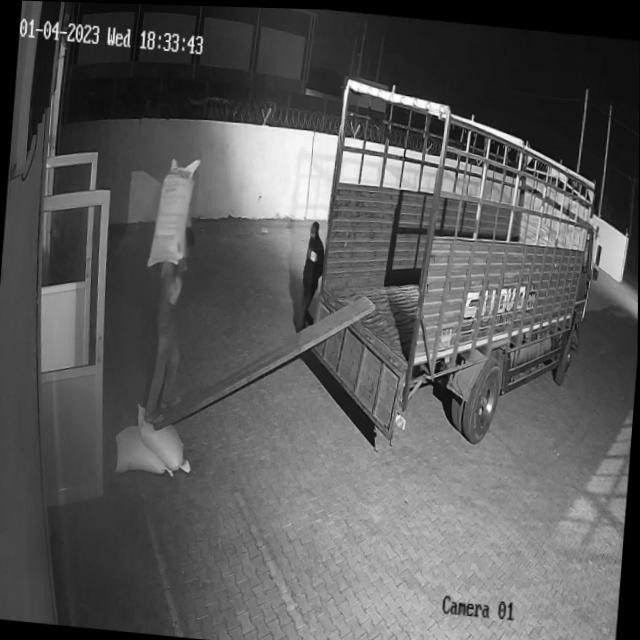sack: (147, 152, 200, 269), (132, 402, 195, 472), (112, 422, 176, 475)
